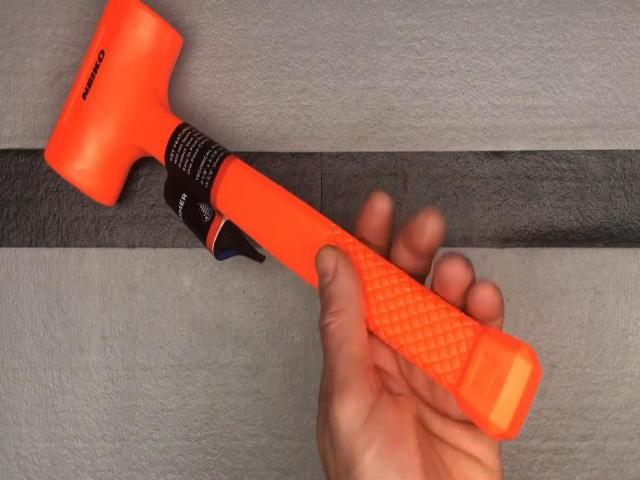hammer: (43, 0, 541, 438)
